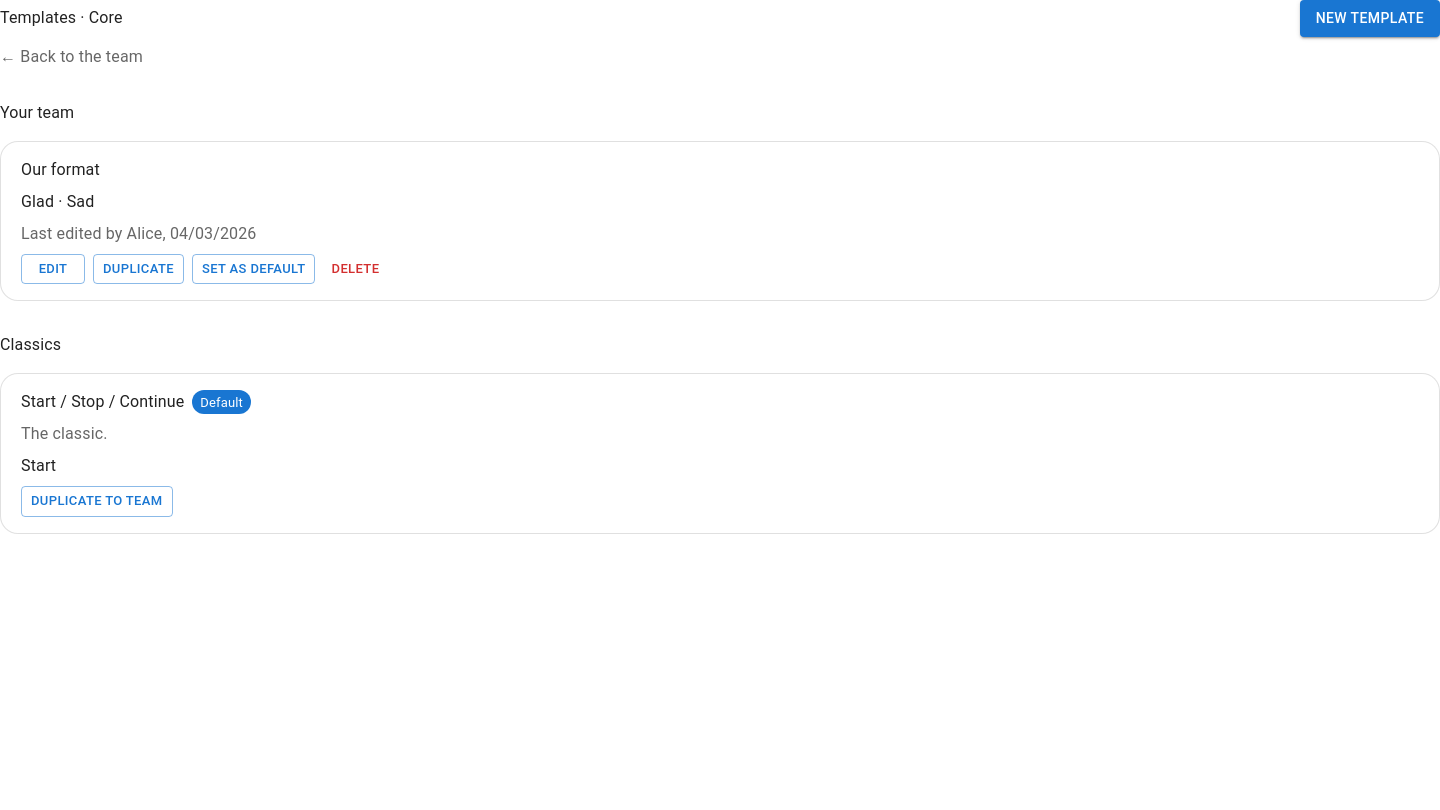
Test: TeamTemplatesPage › caps the columns at 8 and reorders them
The image size is (1440, 810).
Later steps or results of the test are not shown.
Click the button "Edit". click: (53, 269)
box: [21,254,85,284]
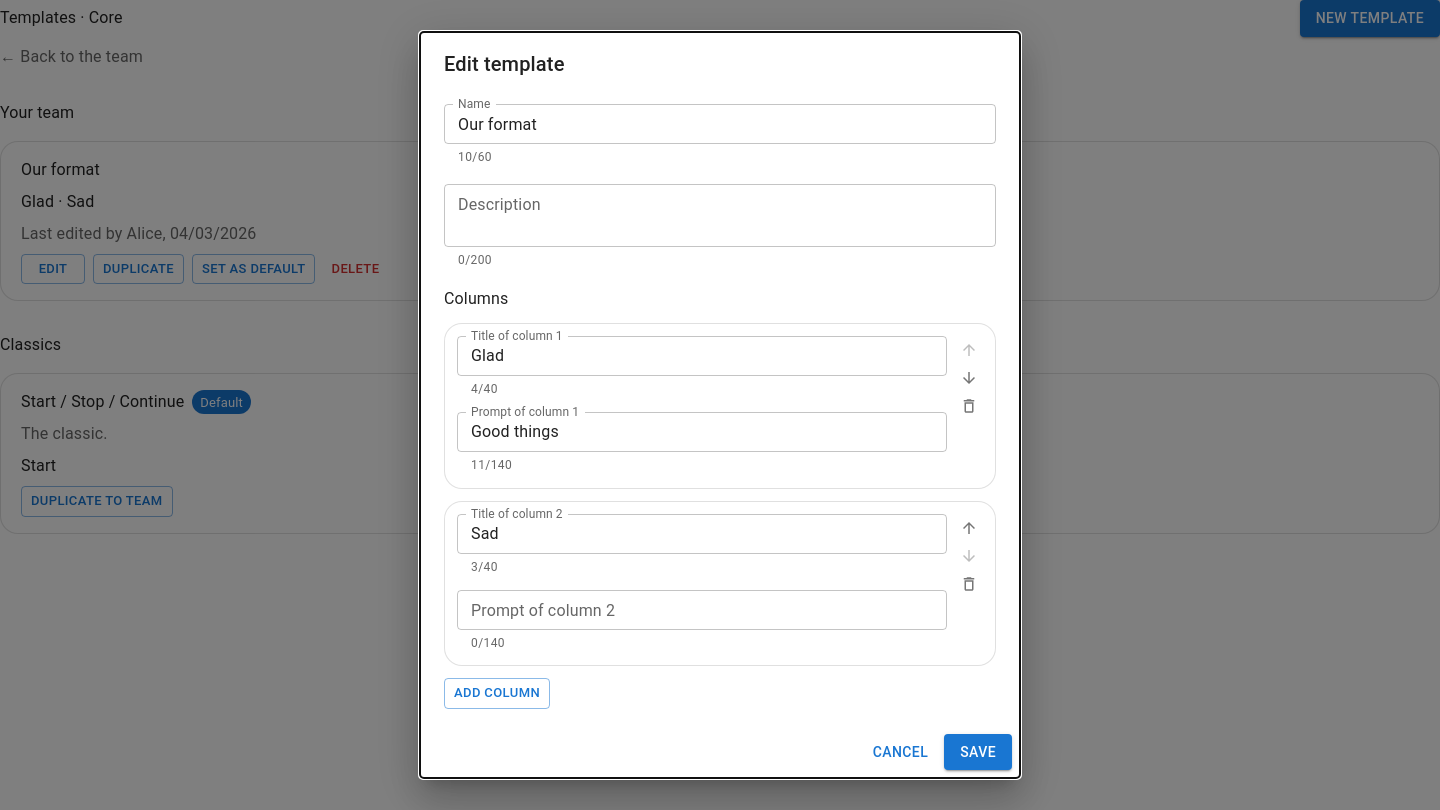
Expected: the heading "Edit template" is shown, [444,52,564,76]
